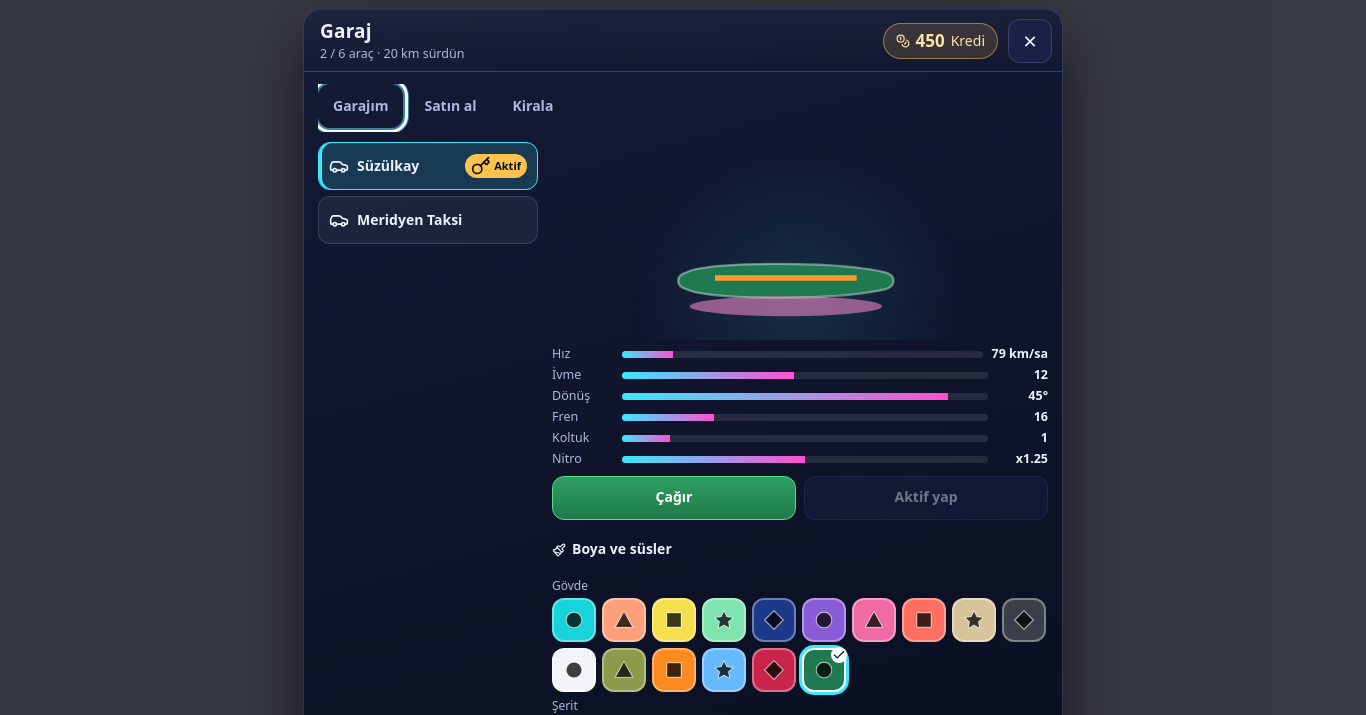
Test: GaragePanel: Satın al ve Kirala › satın alma: Kredi düşer, Garajım'a dönülür, ekran okuyucuya bildirilir; yetersiz Kredi düğmeyi kapatır
Click the tab with test id "tab-buy" at (450, 106), box [409, 84, 492, 128]
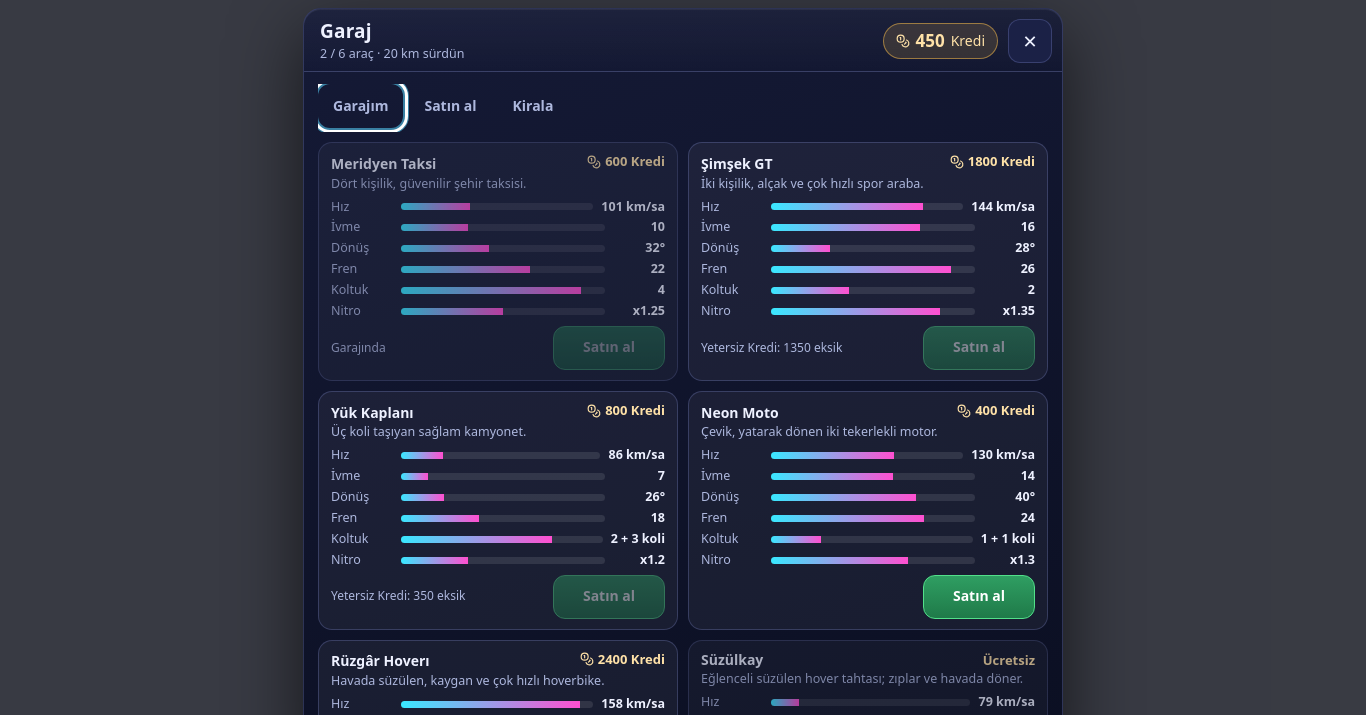
Click the button with test id "buy-motor" at (979, 597), box [923, 575, 1035, 619]
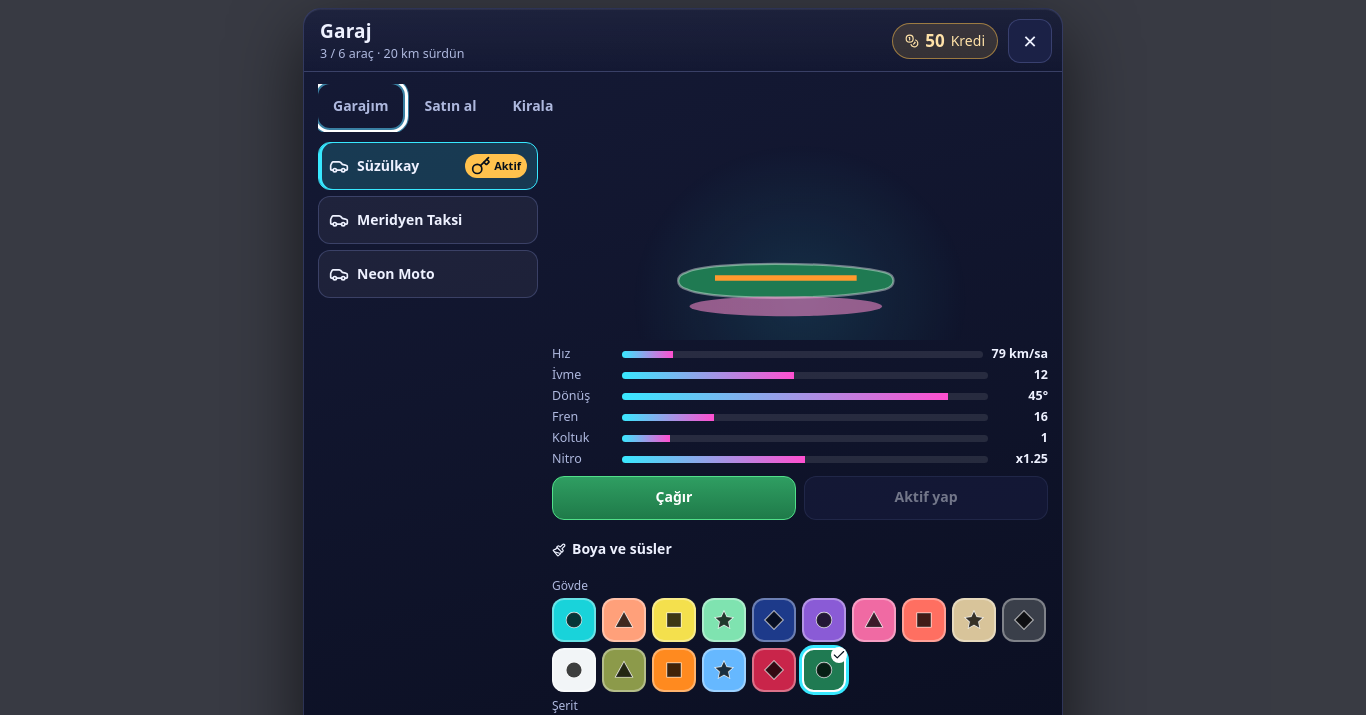
Now the button with test id "owned-2" reads "Neon Moto", box [318, 250, 538, 298]
Click the tab with test id "tab-buy" at (450, 106), box [409, 84, 492, 128]
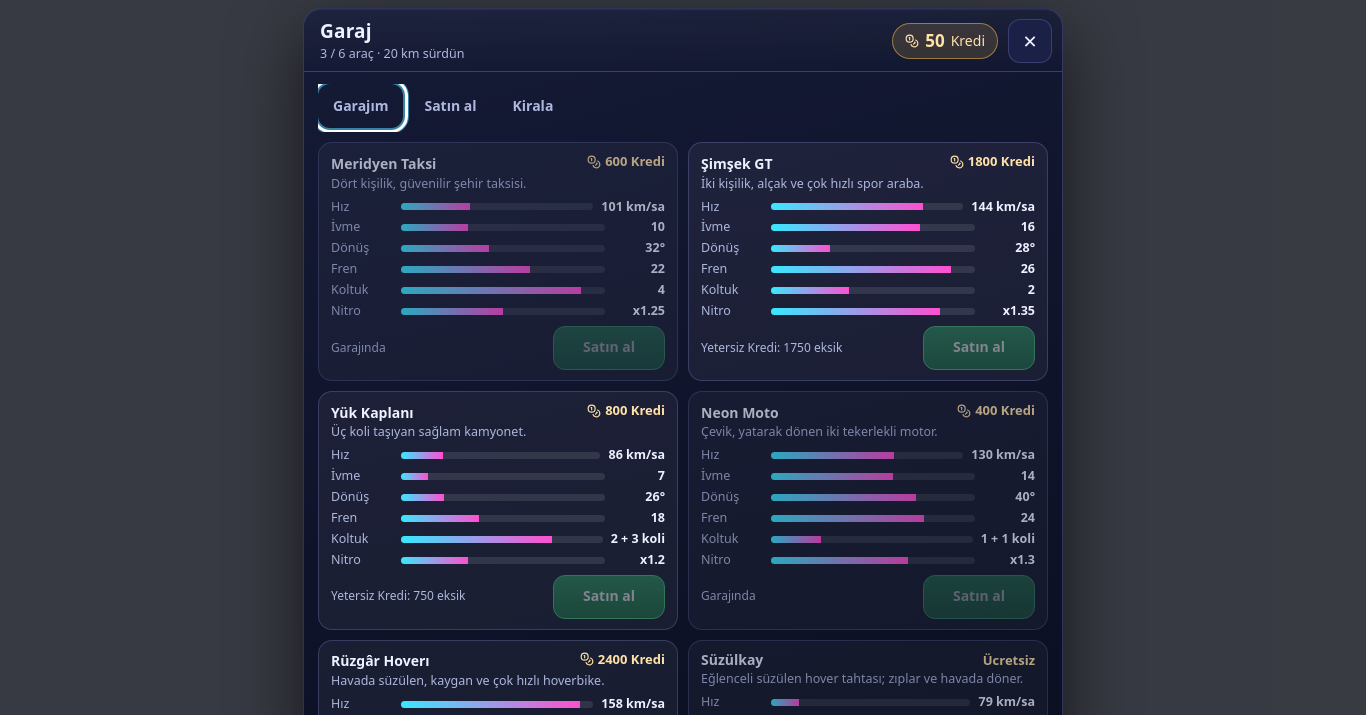
Now the text "Yetersiz Kredi: 1750 eksik" is shown, box [701, 340, 842, 356]
Now the button with test id "buy-spor" is disabled, box [923, 326, 1035, 370]
